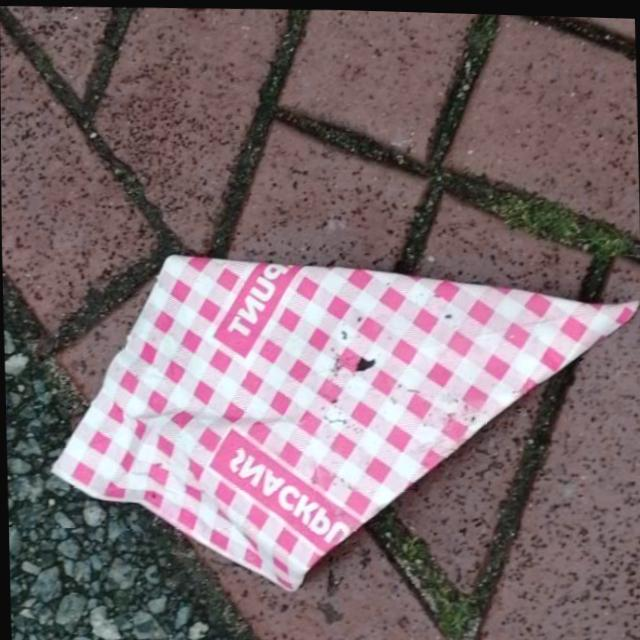Paper: (38, 234, 640, 602)
